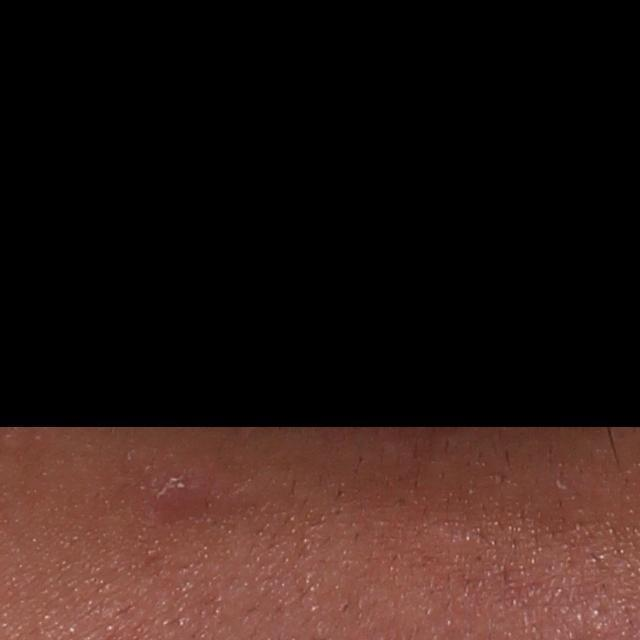papule: (138, 455, 217, 519)
